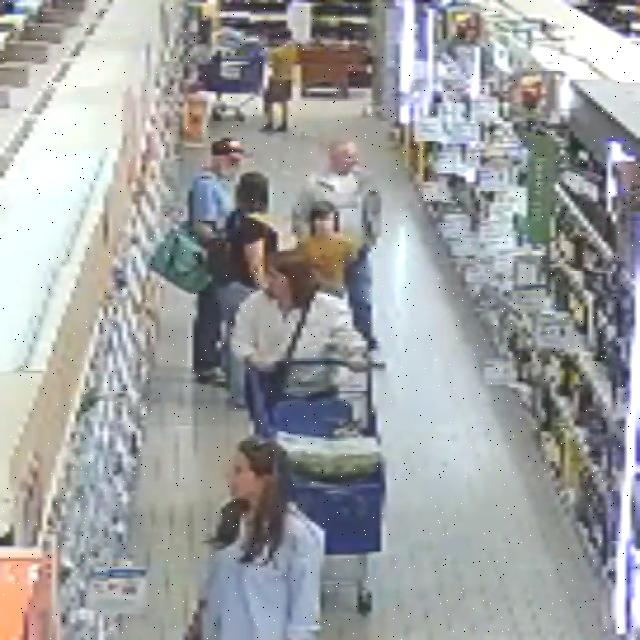bags: (260, 298, 312, 406)
hands: (248, 354, 276, 372), (348, 353, 370, 372)
person: (187, 437, 323, 639), (293, 141, 380, 347), (232, 251, 368, 372), (220, 173, 278, 406), (190, 138, 244, 247), (300, 202, 357, 295)
